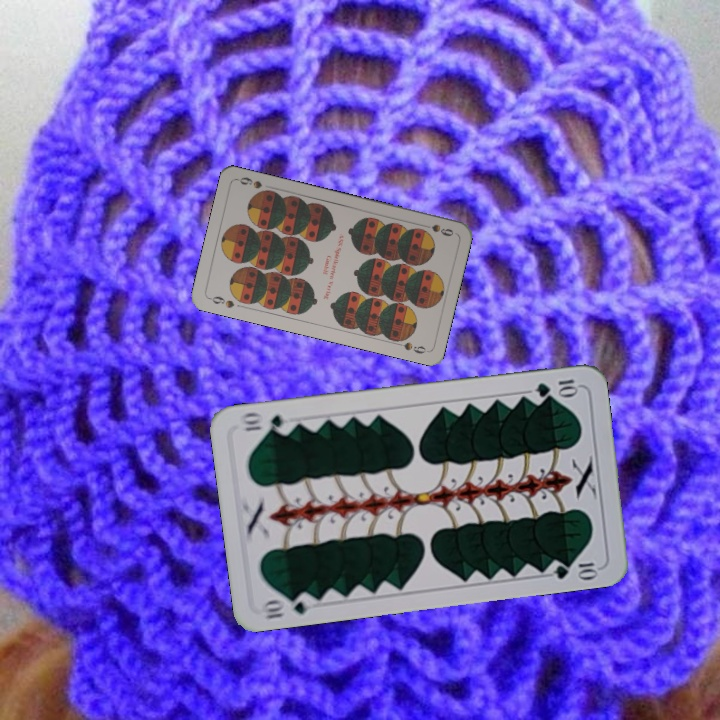G10: (257, 589, 317, 622), (532, 375, 581, 399)
S9: (417, 220, 456, 239), (205, 292, 237, 311)
